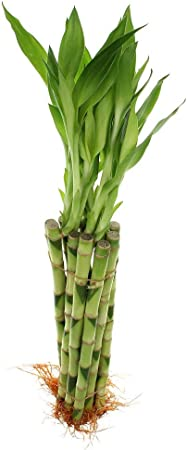bamboo: (5, 2, 178, 417)
